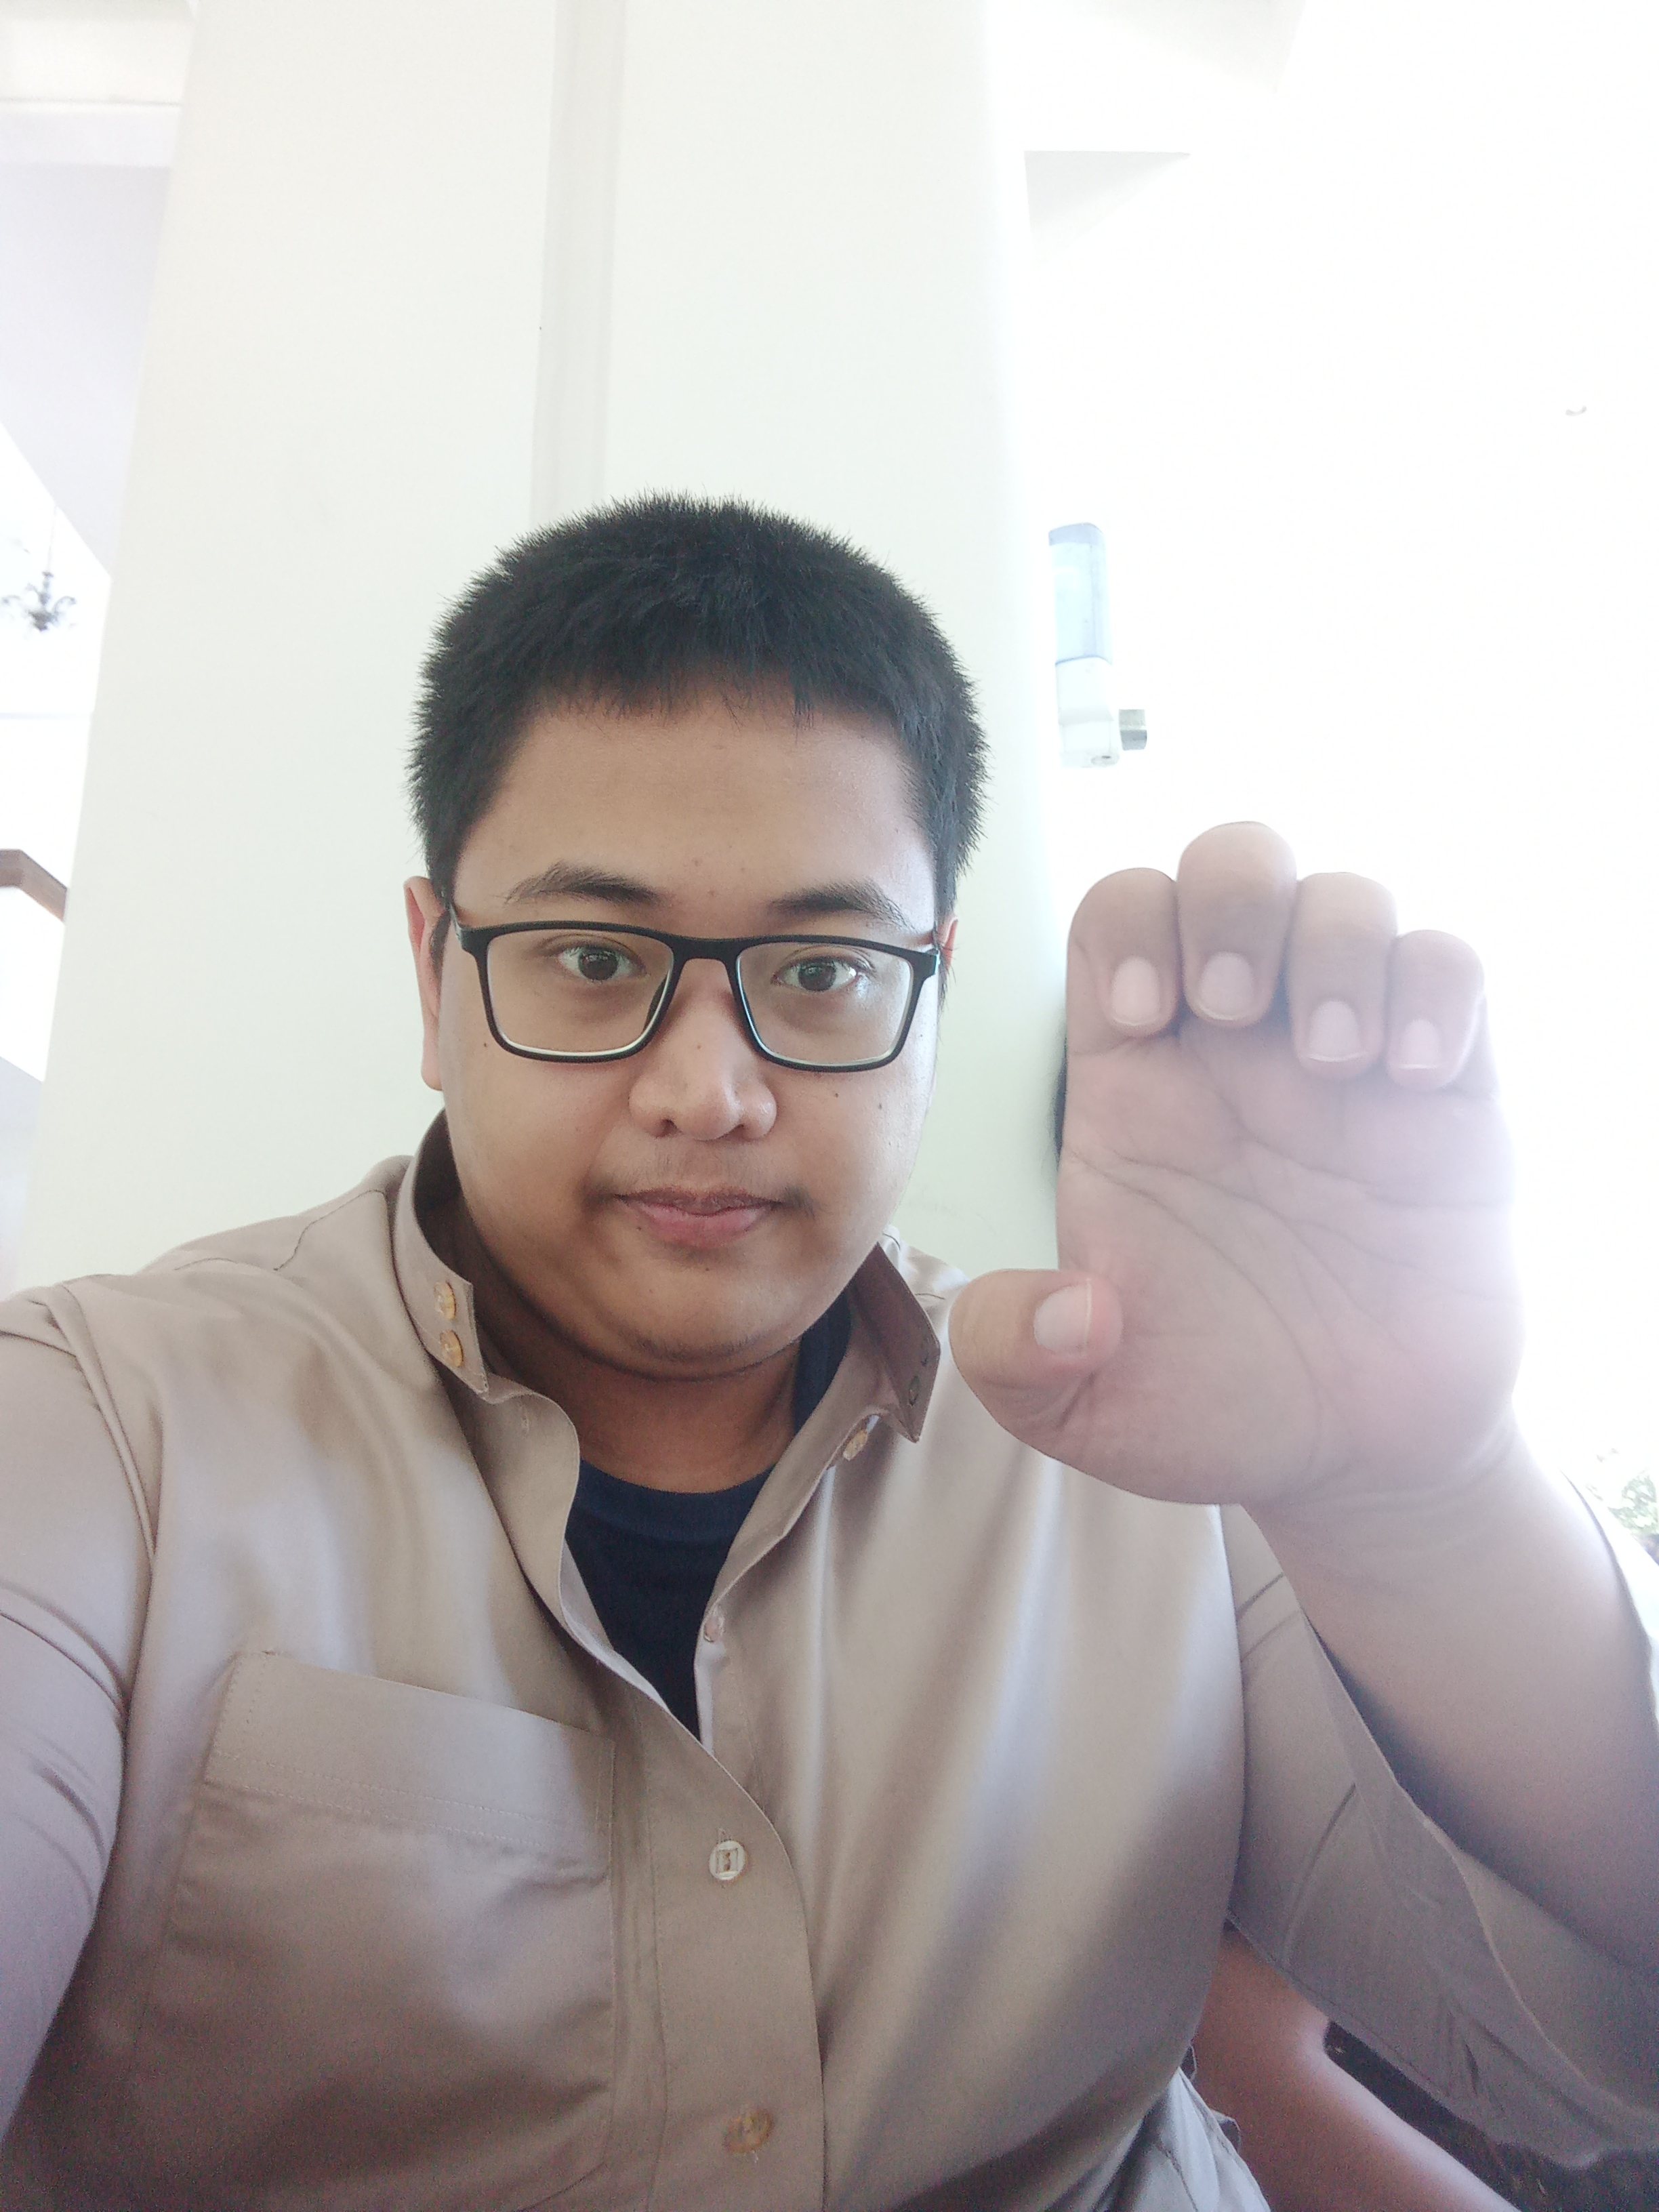E: (941, 806, 1586, 1529)
